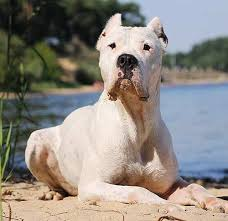dog: (25, 11, 228, 216)
